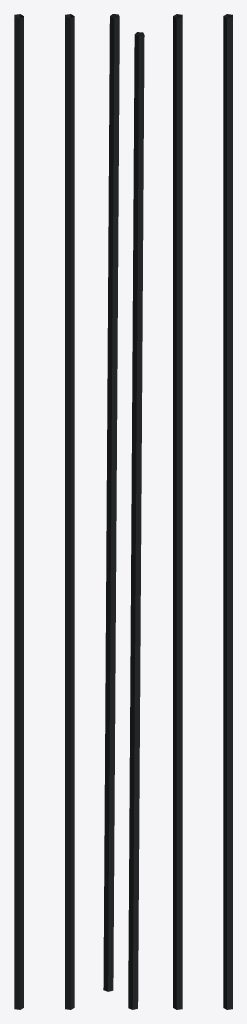
Rendered from SM_Bld_Crane_Hook_Wire_01_847.obj.
3 renders of one model, left to right at view 1: azimuth 90°, elevation 25°; view 2: azimuth 210°, elevation 25°; view 3: azimuth 270°, elevation 25°, orthographic. The views are drawn at different scales.
Parts seen in each view (by area): view 1: SM_Bld_Crane_Hook_Wire_01_0; view 2: SM_Bld_Crane_Hook_Wire_01_0; view 3: SM_Bld_Crane_Hook_Wire_01_0.
Boxes of the visible parts, box(x1,y1,x2,y2) form: SM_Bld_Crane_Hook_Wire_01_0: box(14, 14, 74, 1009); SM_Bld_Crane_Hook_Wire_01_0: box(103, 14, 144, 1009); SM_Bld_Crane_Hook_Wire_01_0: box(173, 14, 232, 1009).
Bounding box in the file's own units: 0.111 × 6.85 × 0.3763.
Materials: 1 (1 with a texture image).
